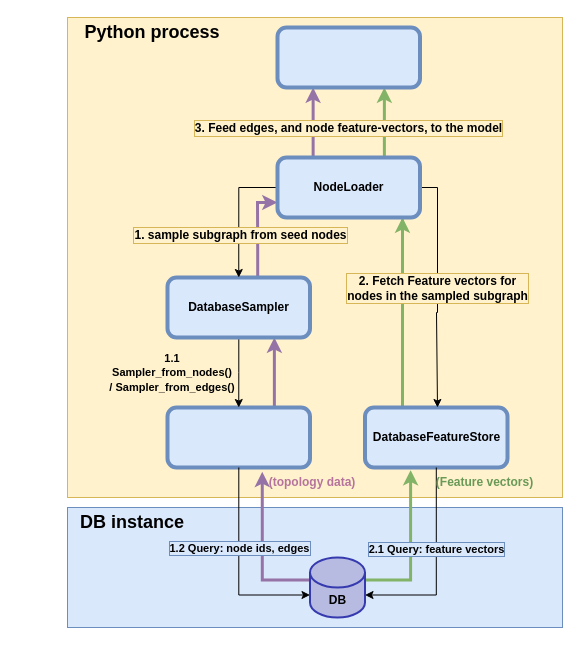
Some shapes in this 580 by 645 pixel diagram are drawn without their labels. The shapes that lost their labels are listed below. From the top down, each one's centre as x and y in pixels, then its label:
At point 348,57: "Model".
At point 238,437: "DatabaseGraphStore".
